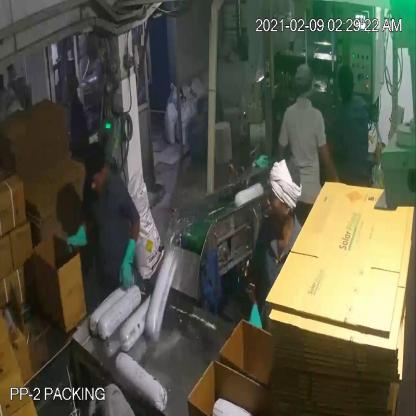glove: (118, 224, 140, 297), (62, 221, 90, 253)
no_glove: (316, 135, 348, 192)
